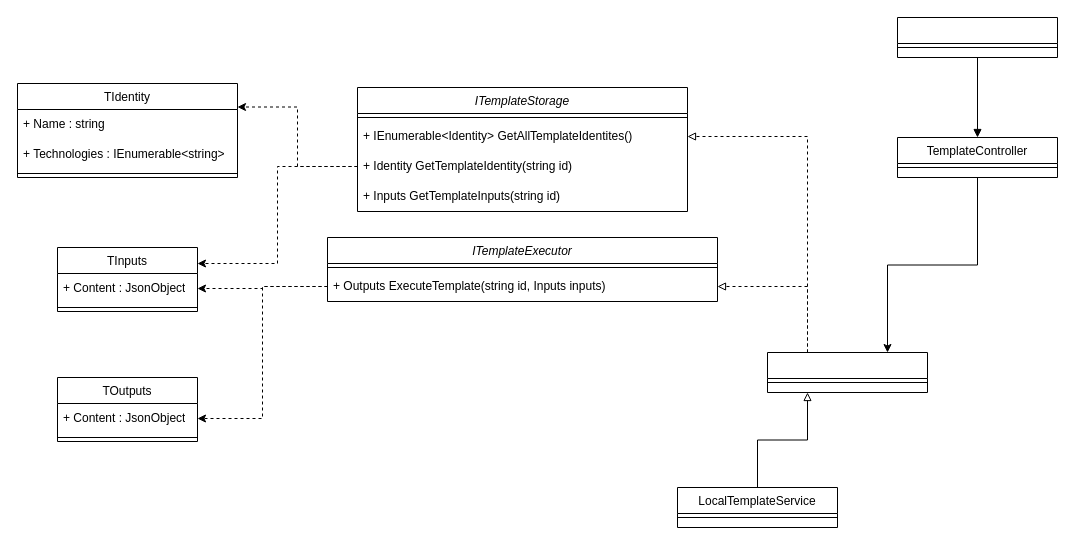
This 1075x545 diagram has some shape labels left out. The centre of each missing label's shape, as x and y in pixels:
ITemplateService: (847,372)
Program: (977,37)
